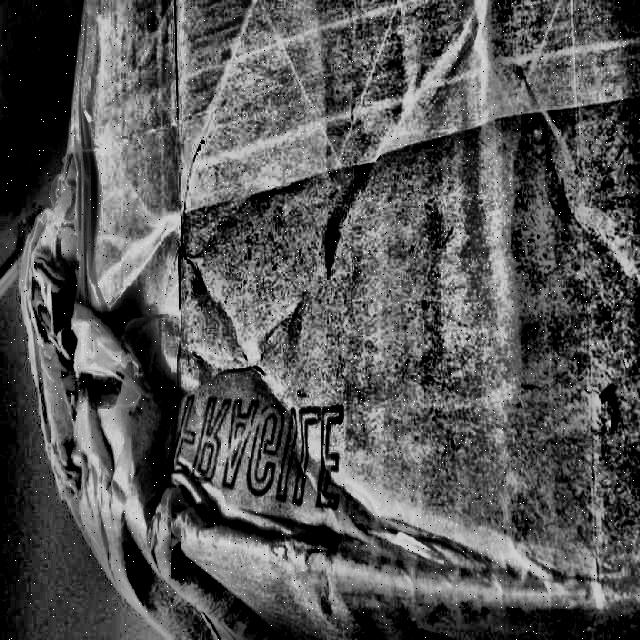box: (20, 0, 640, 639)
hole: (32, 163, 132, 434)
